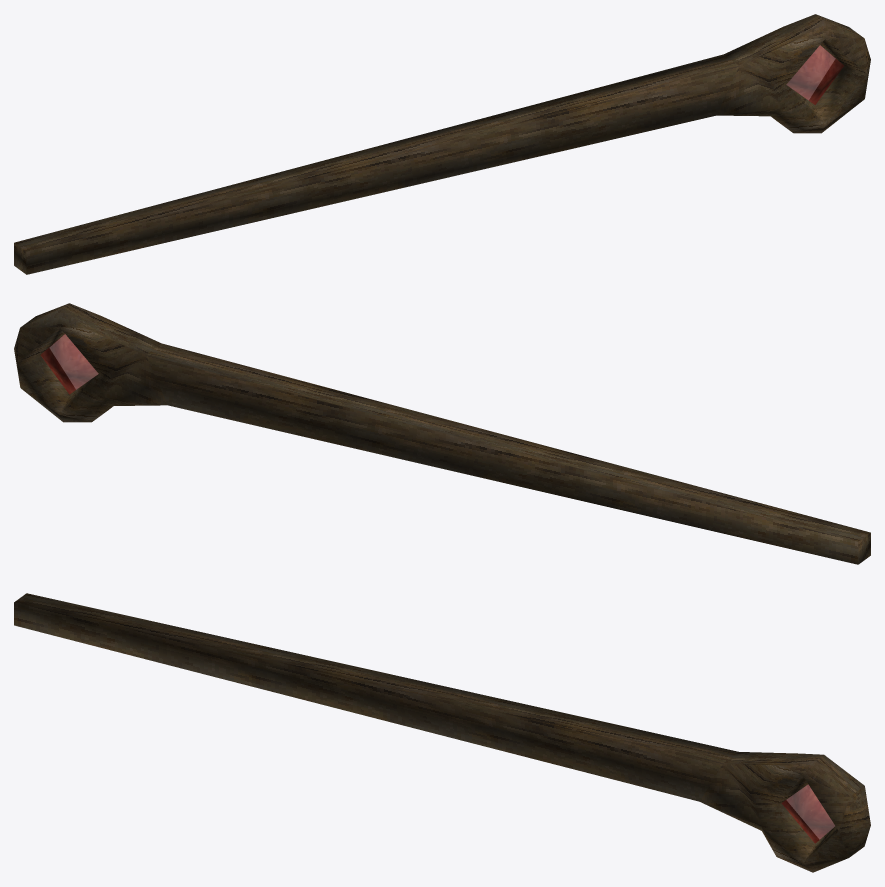
The picture shows the model from 3 angles, top to bottom: view 1: azimuth 30°, elevation 25°; view 2: azimuth 150°, elevation 25°; view 3: azimuth 330°, elevation 25°; orthographic projection.
Visible parts, largest first — view 1: it127; view 2: it127; view 3: it127.
Boxes of the visible parts, x1,y1,x2,y2 form: it127: [14, 14, 870, 274]; it127: [14, 303, 870, 564]; it127: [14, 593, 870, 872].
Bounding box in the file's own units: 5.88 × 0.7419 × 0.3411.
Materials: 2 (2 with a texture image).
